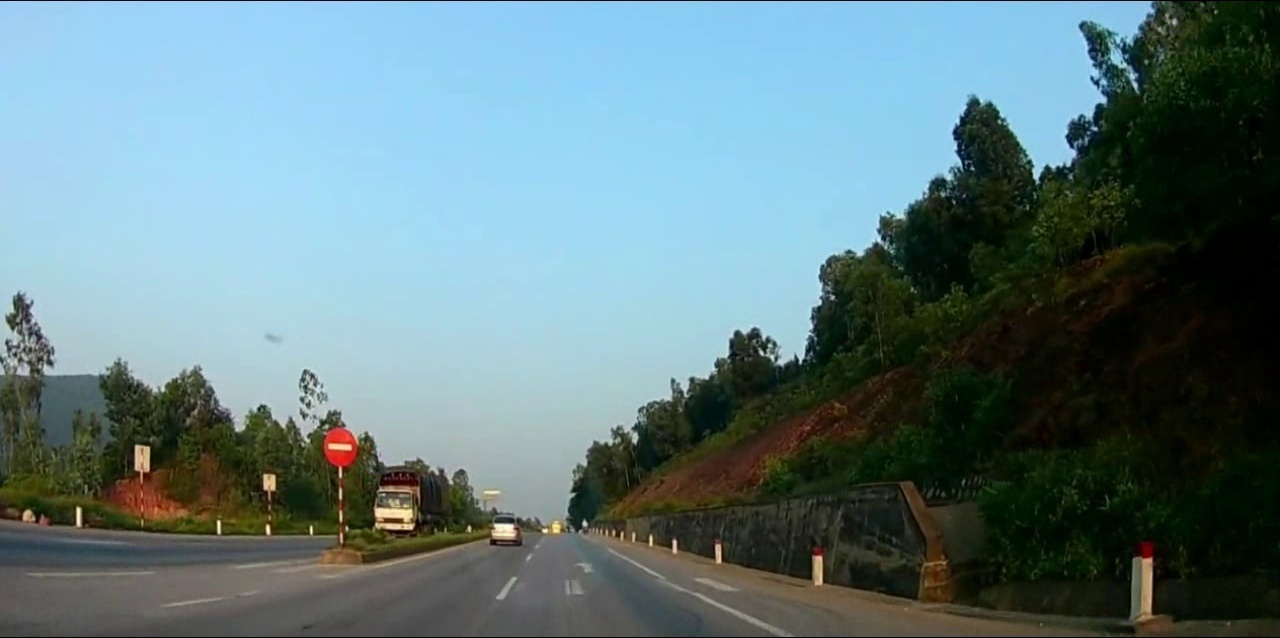Cam di nguoc chieu: (324, 427, 356, 468)
